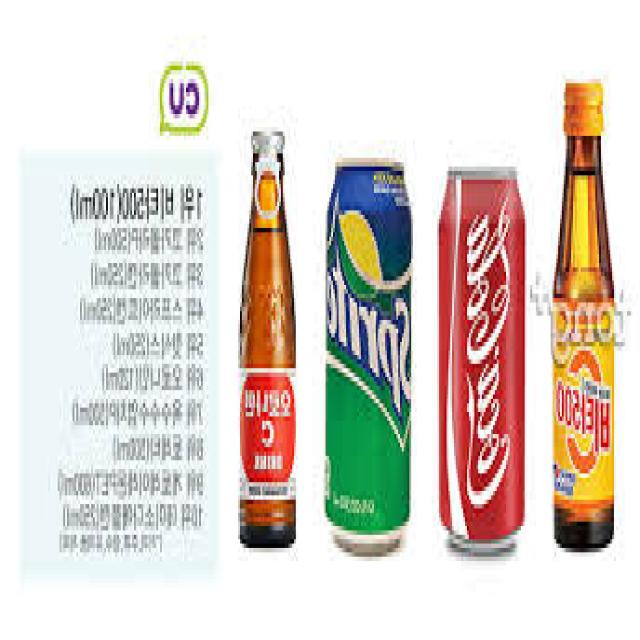Coca-Cola: (434, 145, 531, 566)
